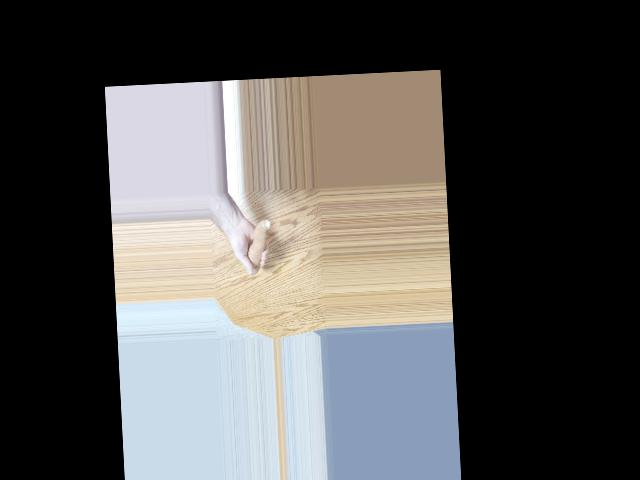sweet_potato: (245, 215, 272, 277)
